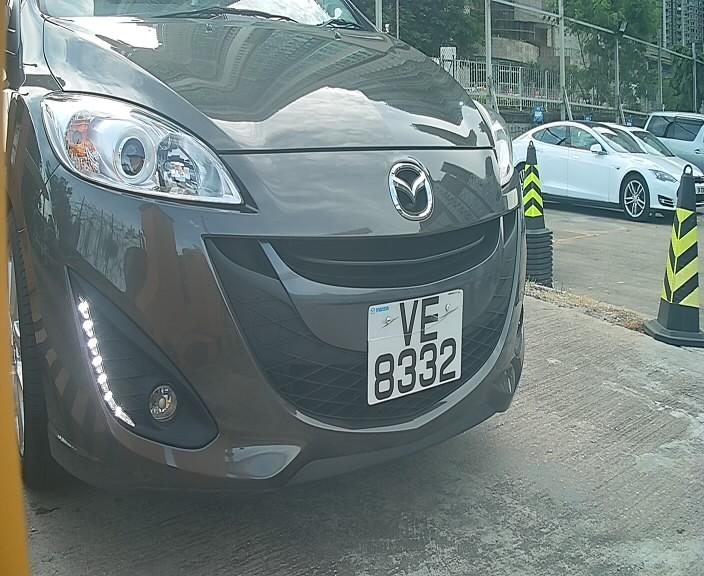License Plate: (356, 286, 466, 415)
